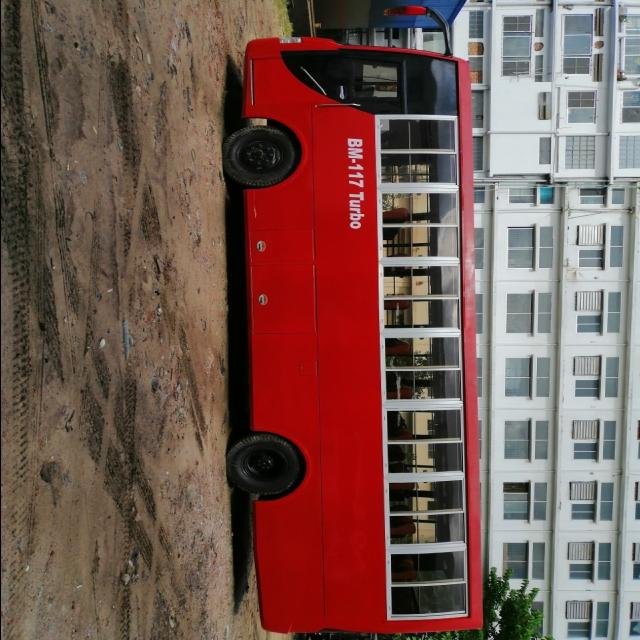bus: (181, 1, 495, 640)
